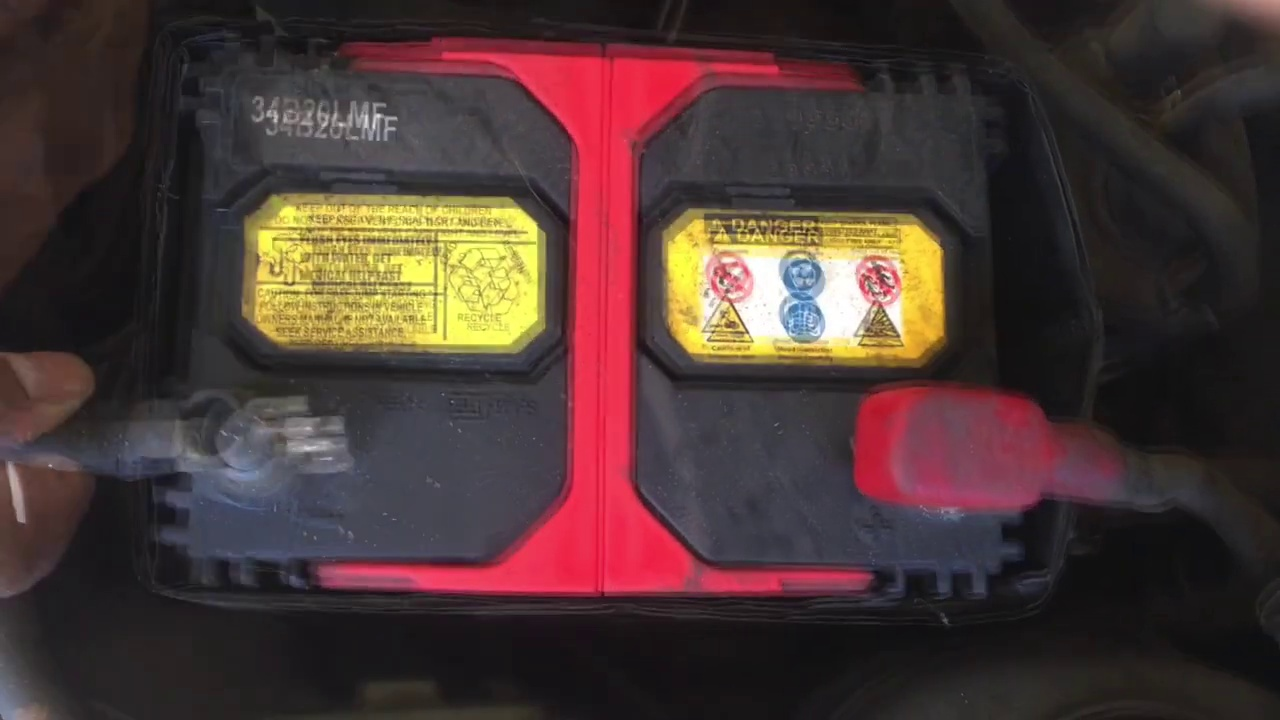battery: (173, 31, 1064, 609)
neg_connected: (65, 327, 360, 519)
pos_connected: (833, 369, 1110, 530)
